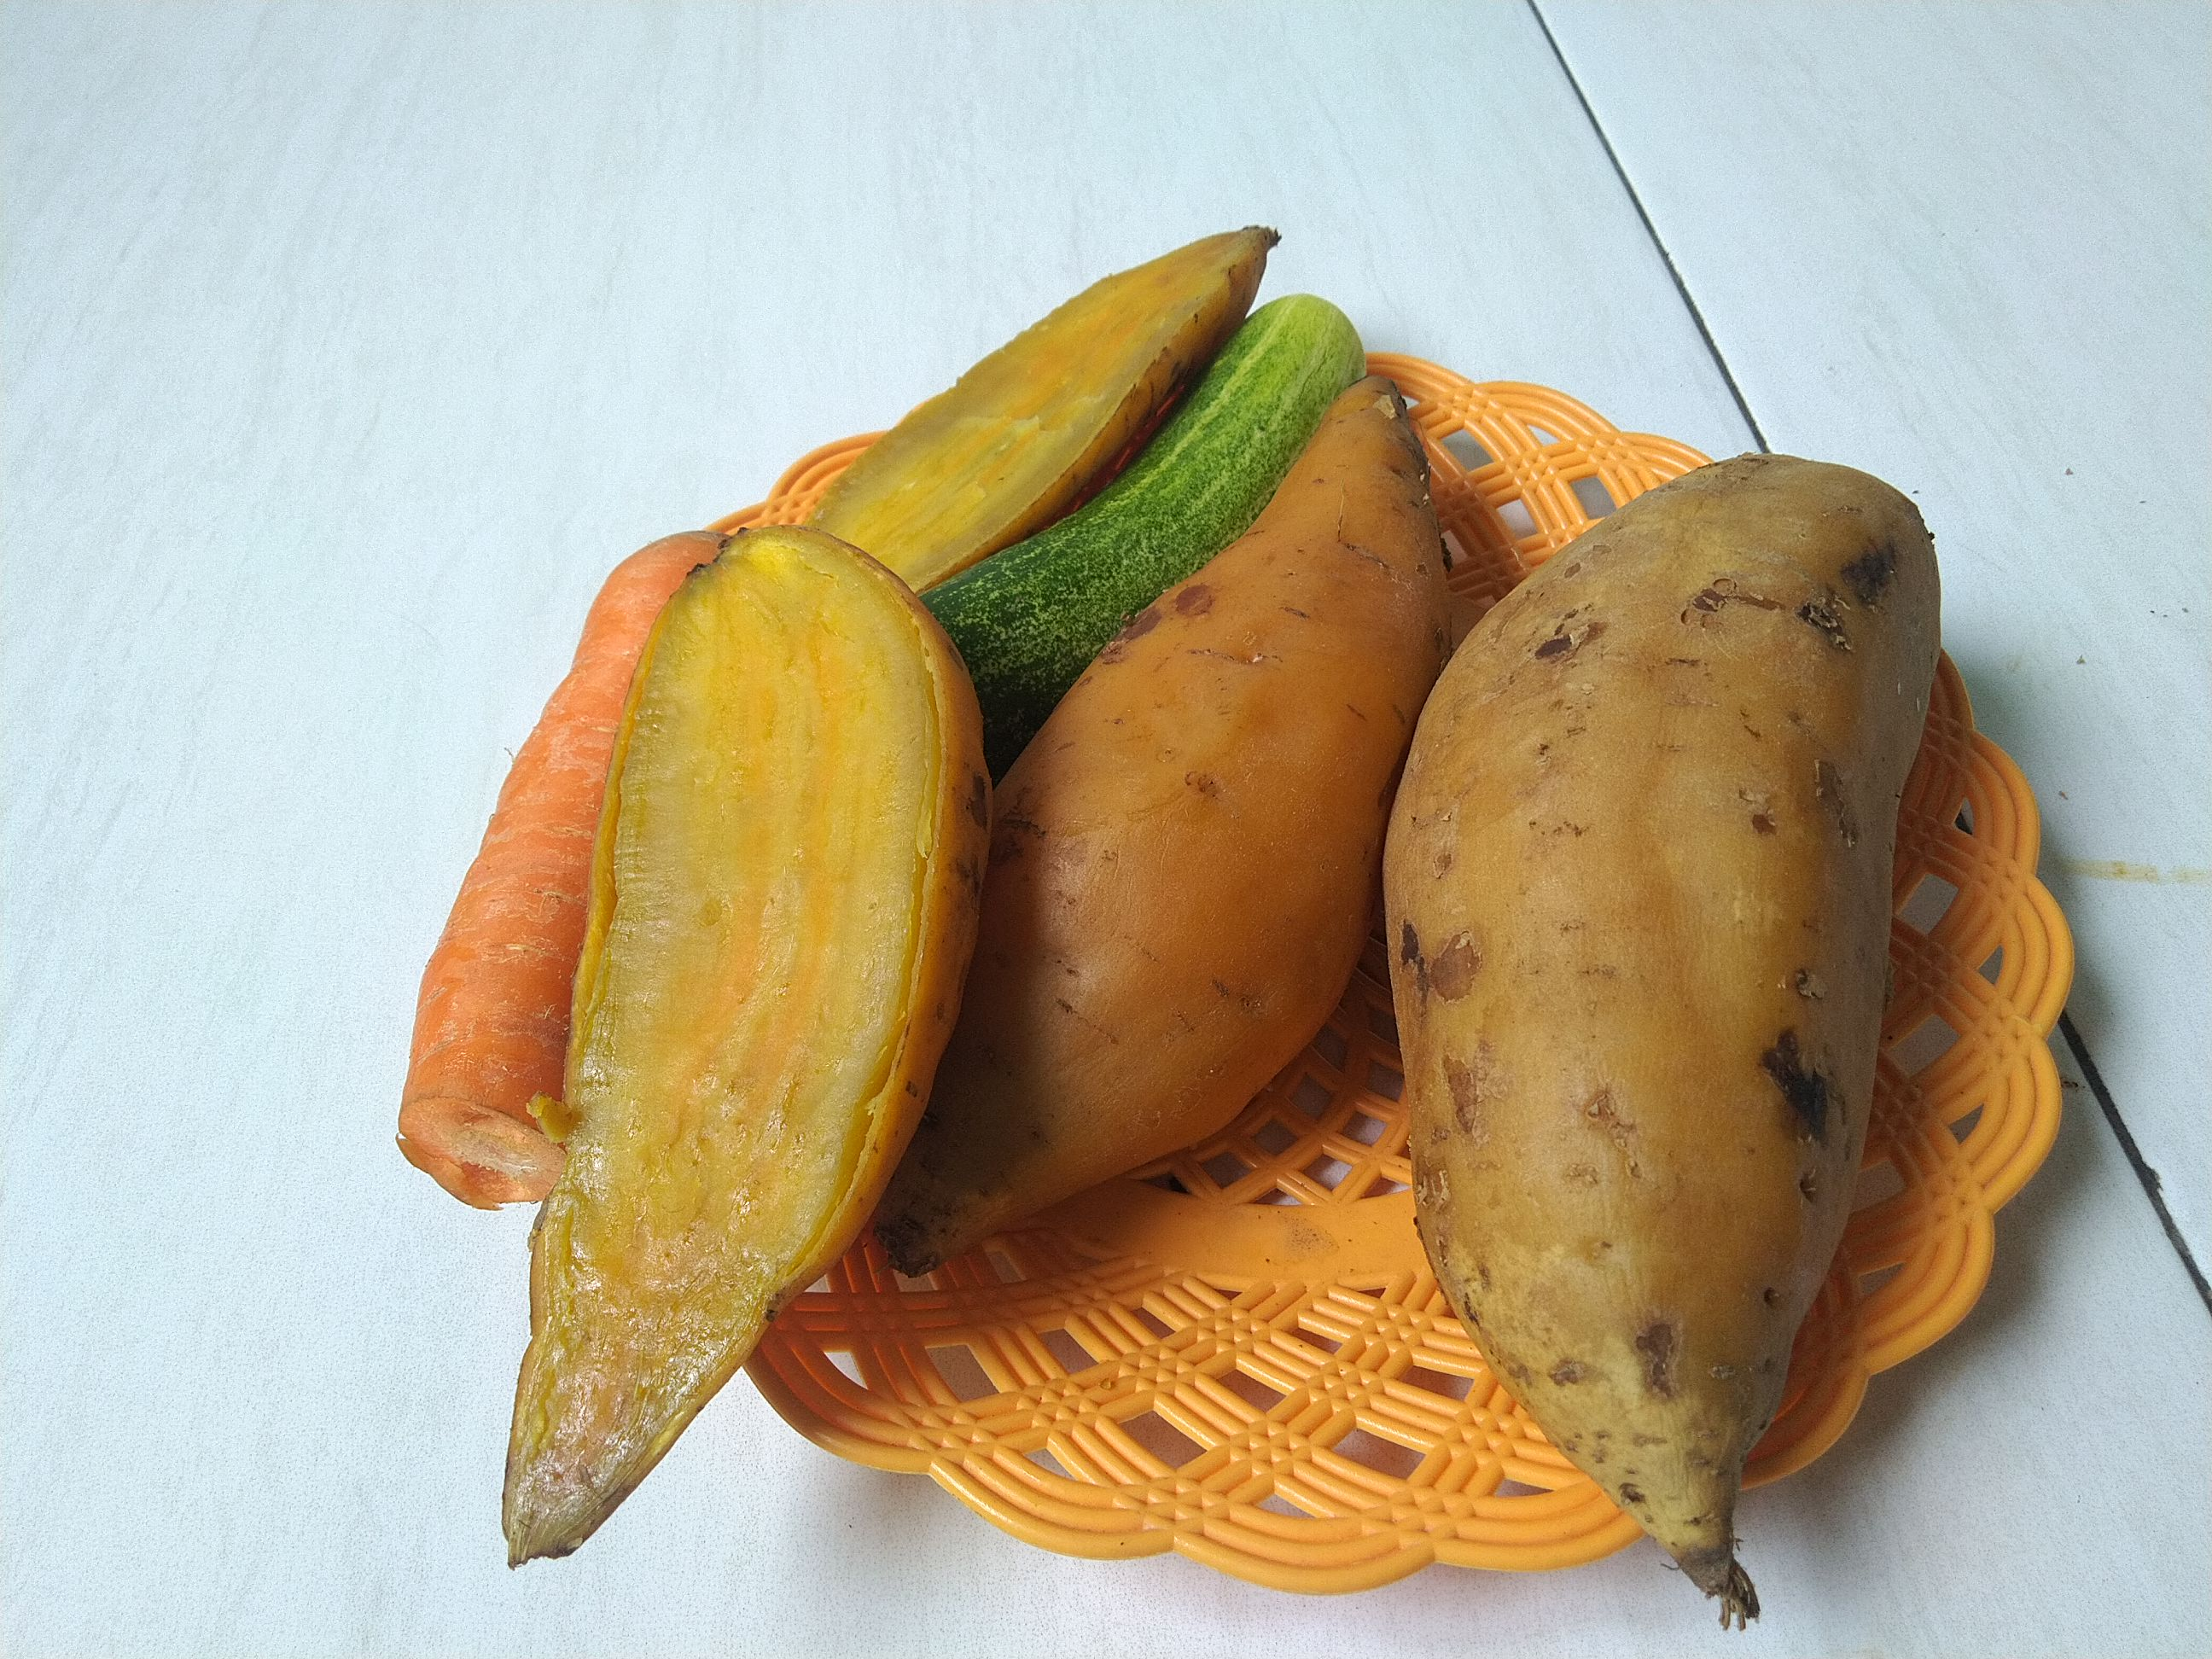ubi cilembu: (1360, 471, 2012, 1628), (869, 390, 1480, 1286), (528, 530, 967, 1574), (819, 211, 1298, 570)
